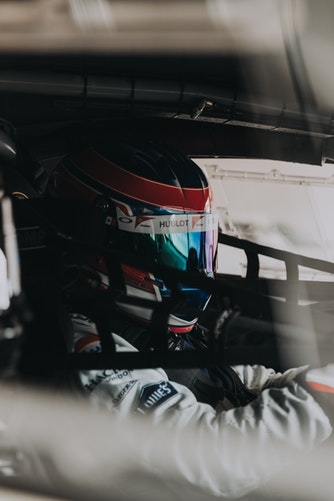helmet: (59, 143, 214, 336)
